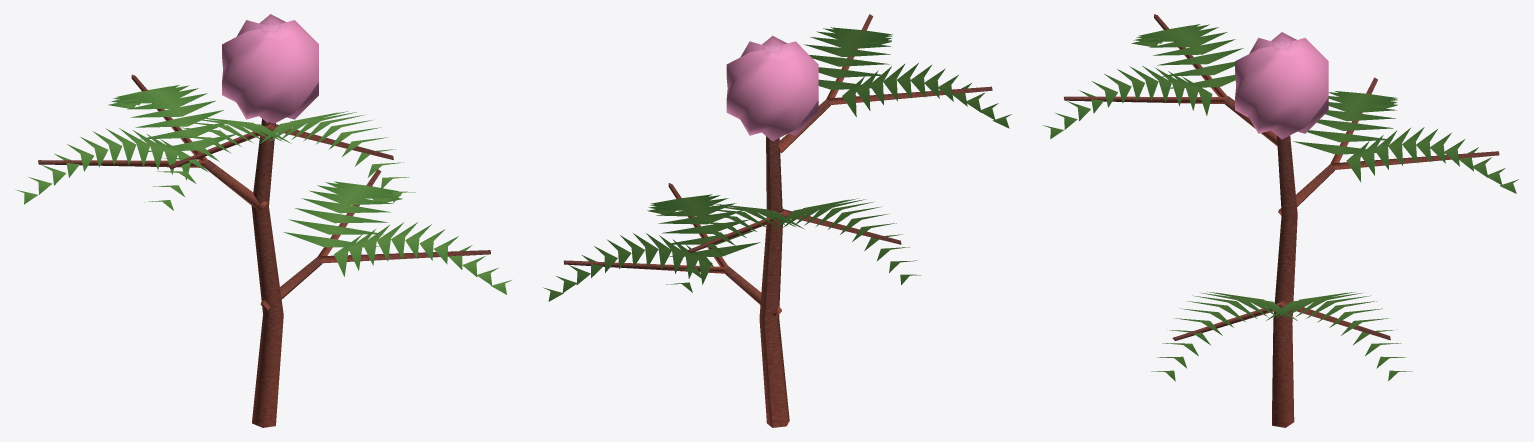
Rendered from turtle-prop-makahiya-fold.glb.
3 views of the same model, side by side, from view 1: azimuth 30°, elevation 25°; view 2: azimuth 150°, elevation 25°; view 3: azimuth 270°, elevation 25° (orthographic). The views are drawn at different scales.
Parts seen in each view (by area): view 1: makahiya-spray; view 2: makahiya-spray; view 3: makahiya-spray.
Boxes of the visible parts, x1=… form: makahiya-spray: x1=15, y1=14, x2=511, y2=427; makahiya-spray: x1=543, y1=14, x2=1011, y2=427; makahiya-spray: x1=1042, y1=14, x2=1518, y2=427.
Bounding box in the file's own units: 0.0496 × 0.0479 × 0.0544.
Materials: 1 (1 with a texture image).
